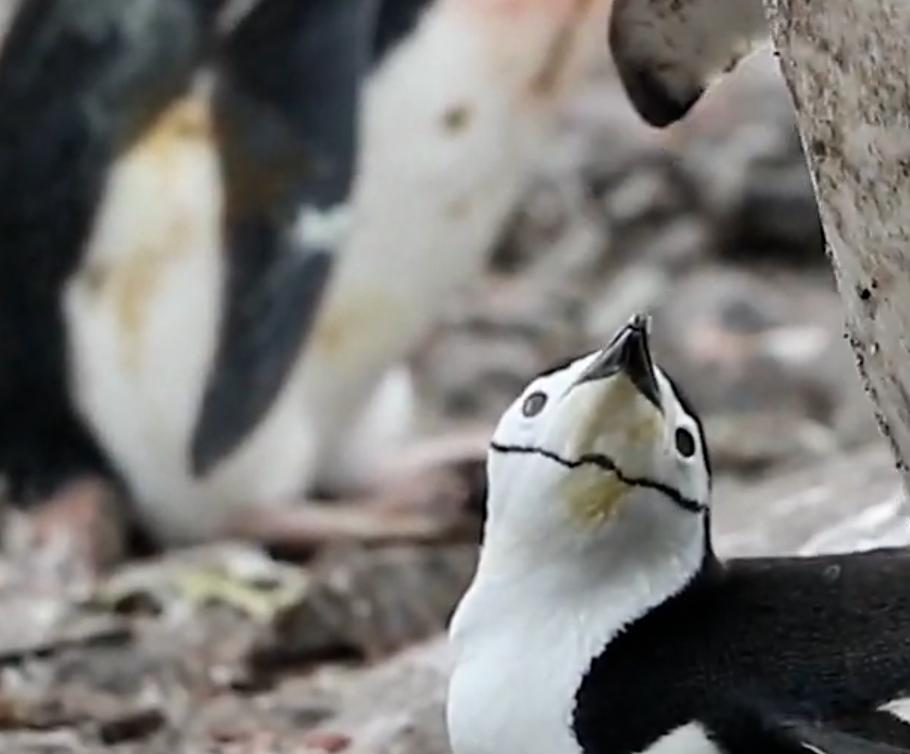Chinstrap Penguin: (445, 293, 803, 754), (484, 0, 910, 246)
